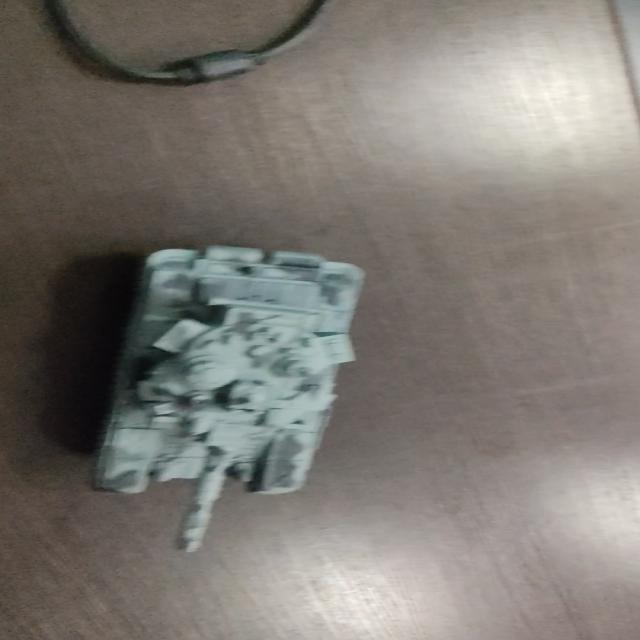tank: (95, 244, 358, 556)
